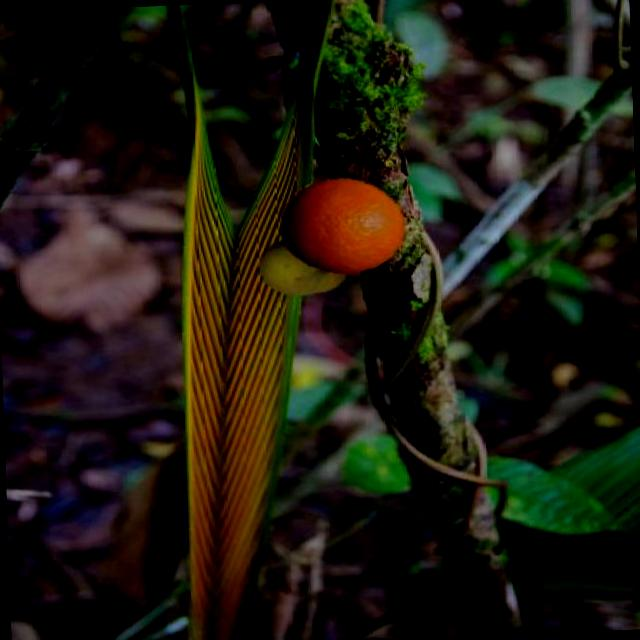Orange: (275, 175, 407, 277)
